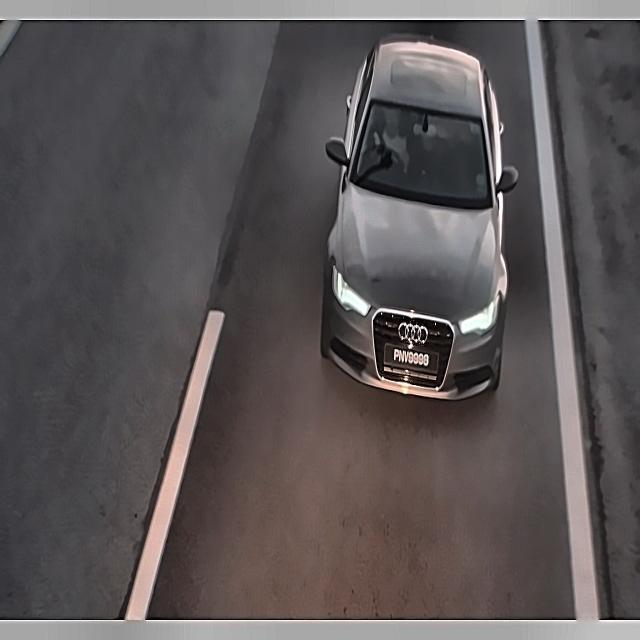car: (381, 339, 445, 386)
